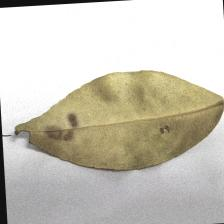black spot: (0, 105, 100, 155)
